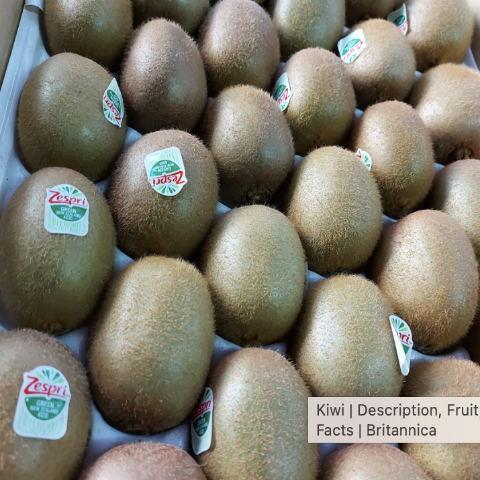kiwi: (75, 236, 226, 438), (287, 259, 416, 422), (4, 159, 124, 328), (179, 334, 318, 479), (368, 199, 480, 373), (280, 134, 388, 282), (110, 8, 213, 151), (118, 124, 218, 263), (342, 93, 436, 220), (267, 44, 365, 156), (207, 72, 299, 186)
